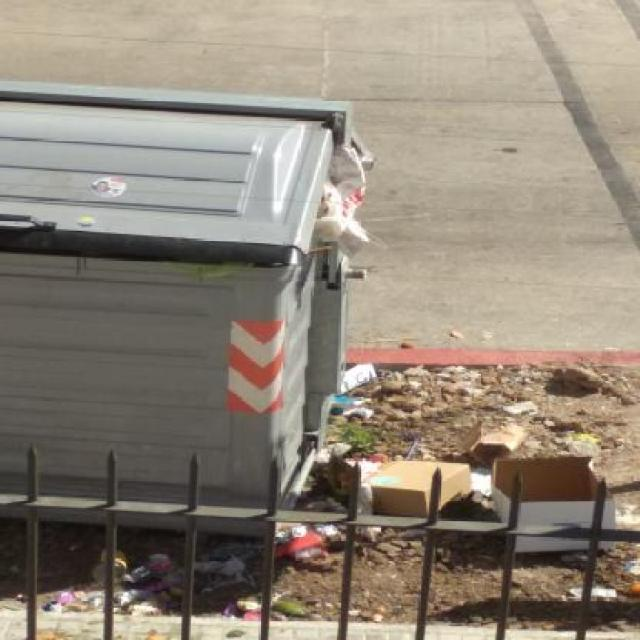garbage: (329, 445, 633, 545), (54, 540, 330, 616), (323, 139, 367, 255), (331, 368, 385, 419), (499, 391, 553, 424)
